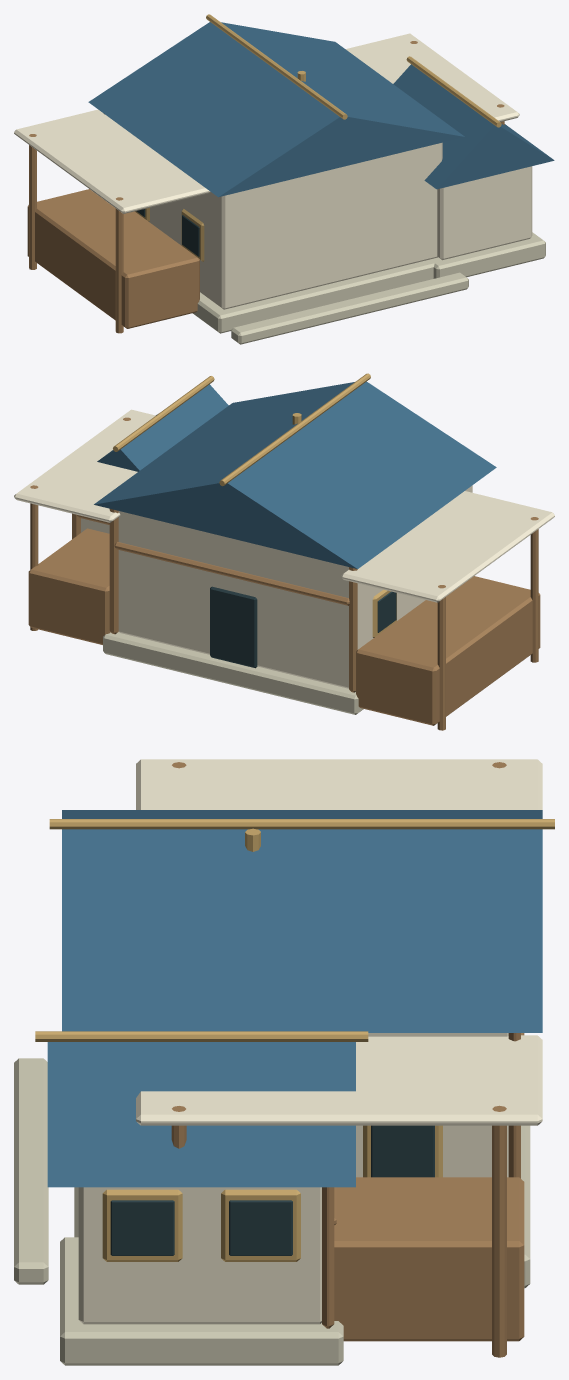
The model's file is level_09.glb.
3 views of the same model, one above another, from view 1: azimuth 30°, elevation 25°; view 2: azimuth 150°, elevation 25°; view 3: azimuth 270°, elevation 25° (orthographic). The views are drawn at different scales.
Visible parts, largest first — view 1: market — level 09; view 2: market — level 09; view 3: market — level 09.
Part boxes in pixels (bbox=[...]): market — level 09: bbox=[14, 14, 554, 344]; market — level 09: bbox=[14, 373, 554, 730]; market — level 09: bbox=[14, 759, 554, 1365].
Size of the model in its own units: 7.08 by 3.26 by 4.39.
